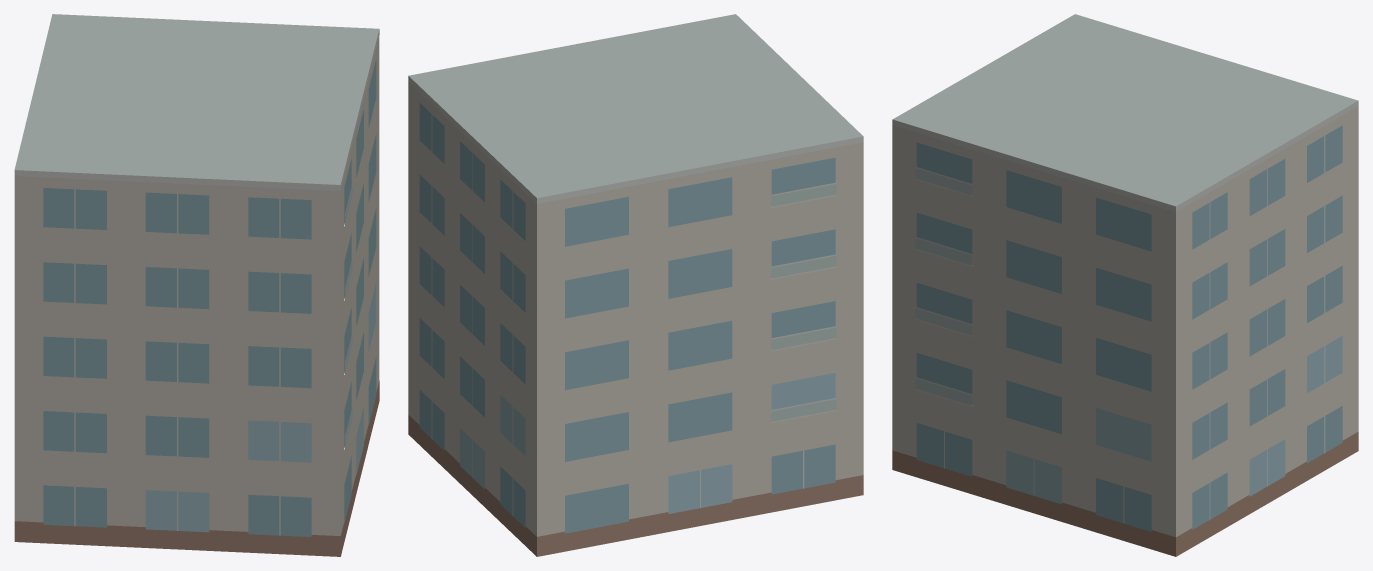
File: survey-upis-32976405.glb
3 views of the same model, side by side, from view 1: azimuth 30°, elevation 25°; view 2: azimuth 150°, elevation 25°; view 3: azimuth 270°, elevation 25° (orthographic). The views are drawn at different scales.
Visible parts, largest first — view 1: survey-upis-32976405.tmp; view 2: survey-upis-32976405.tmp; view 3: survey-upis-32976405.tmp.
Part boxes in pixels (x1,y1,x2,y2): survey-upis-32976405.tmp: [14, 14, 379, 556]; survey-upis-32976405.tmp: [408, 14, 863, 556]; survey-upis-32976405.tmp: [892, 14, 1358, 556].
Bounding box in the file's own units: 17.97 × 15.25 × 18.39.
